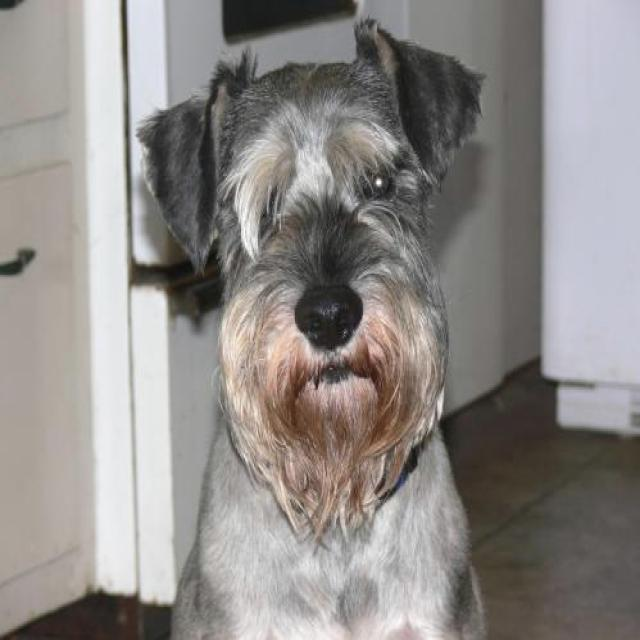standard_schnauzer: (134, 19, 492, 635)
